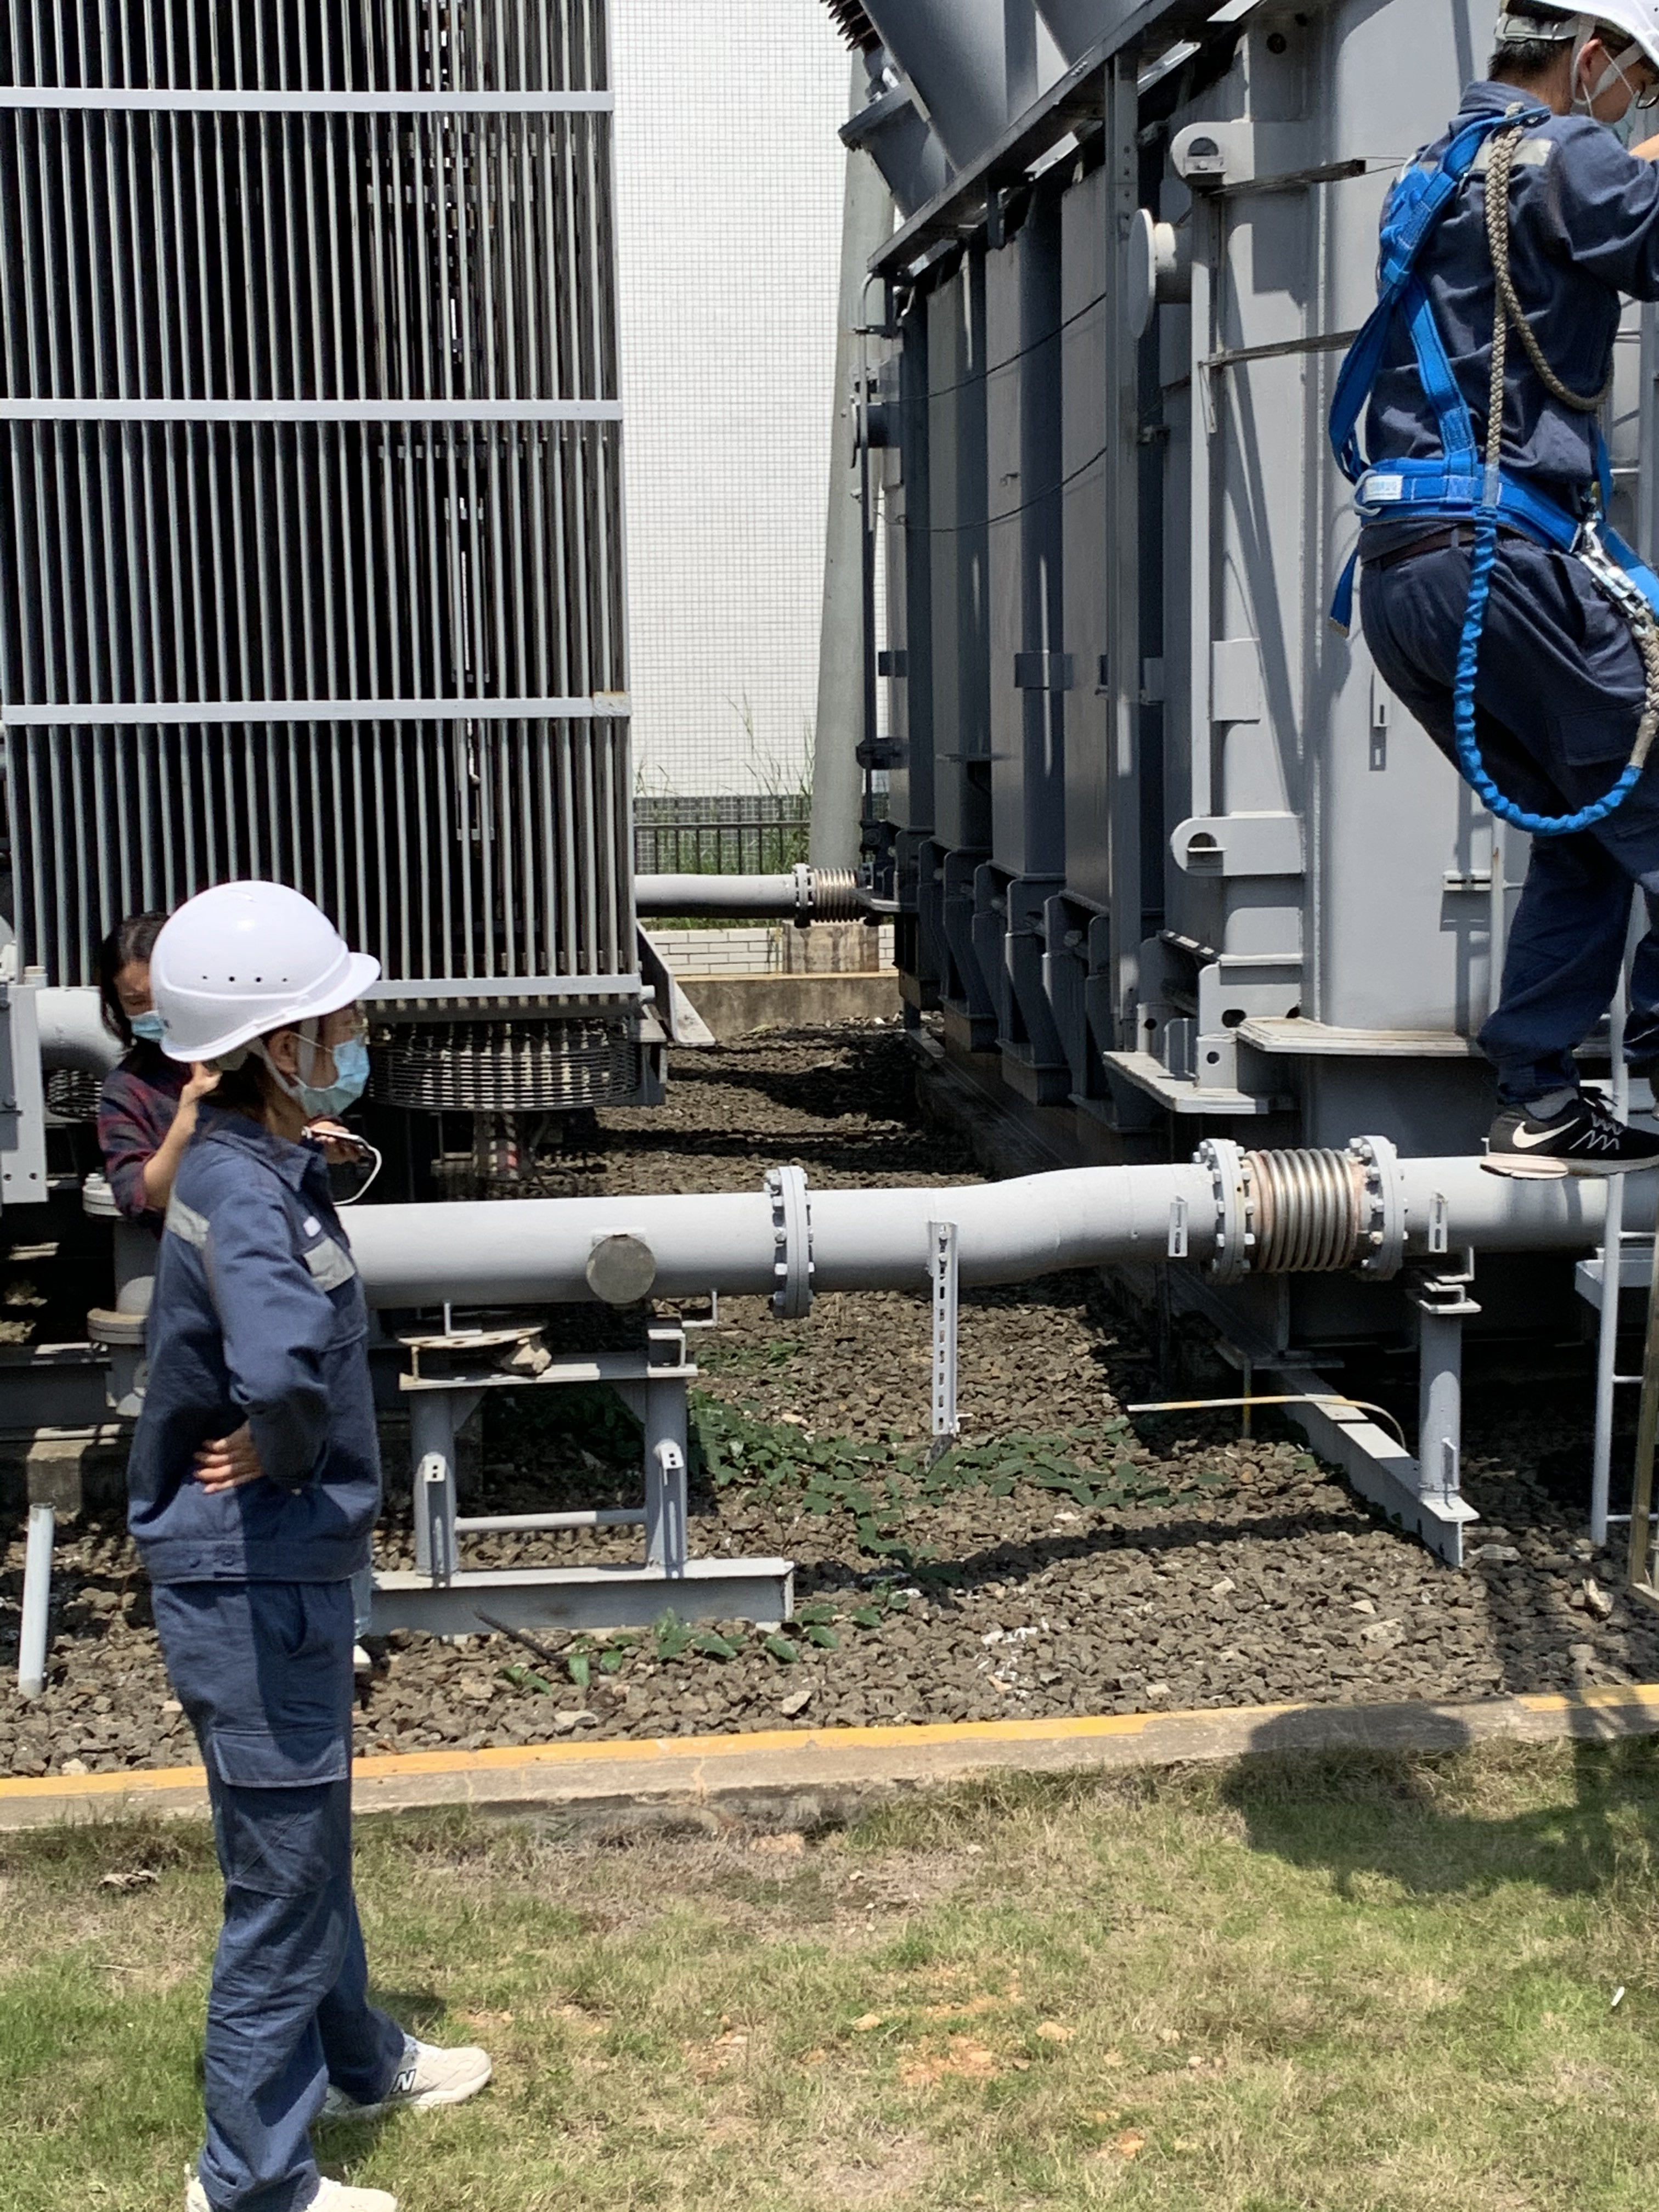downsuit: (1356, 543, 1659, 1103), (143, 1594, 404, 2212)
upsuit: (1331, 78, 1659, 521), (129, 1120, 392, 1575)
